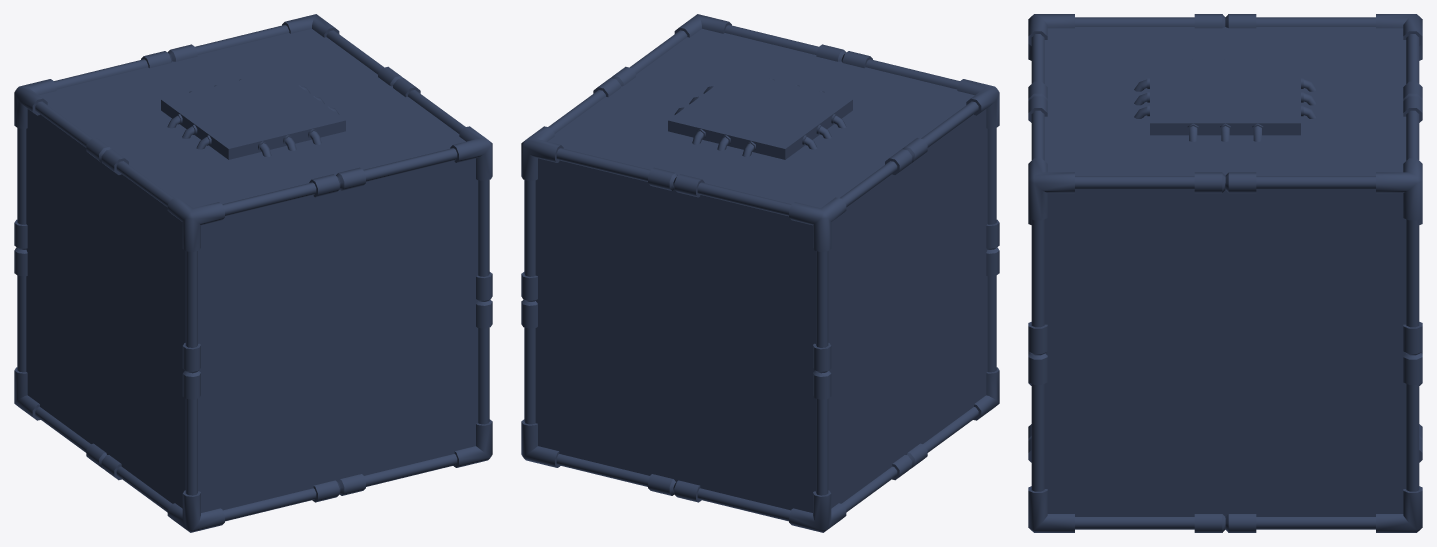
Rendered from trapBlock_Model.fbx.
3 views of the same model, side by side, from view 1: azimuth 30°, elevation 25°; view 2: azimuth 150°, elevation 25°; view 3: azimuth 270°, elevation 25° (orthographic). The views are drawn at different scales.
Parts seen in each view (by area): view 1: trapBlock; view 2: trapBlock; view 3: trapBlock.
Part boxes in pixels (x1=…): trapBlock: x1=14, y1=14, x2=492, y2=532; trapBlock: x1=521, y1=14, x2=999, y2=532; trapBlock: x1=1028, y1=14, x2=1422, y2=532.
Bounding box in the file's own units: 2.5 × 2.52 × 2.5.
